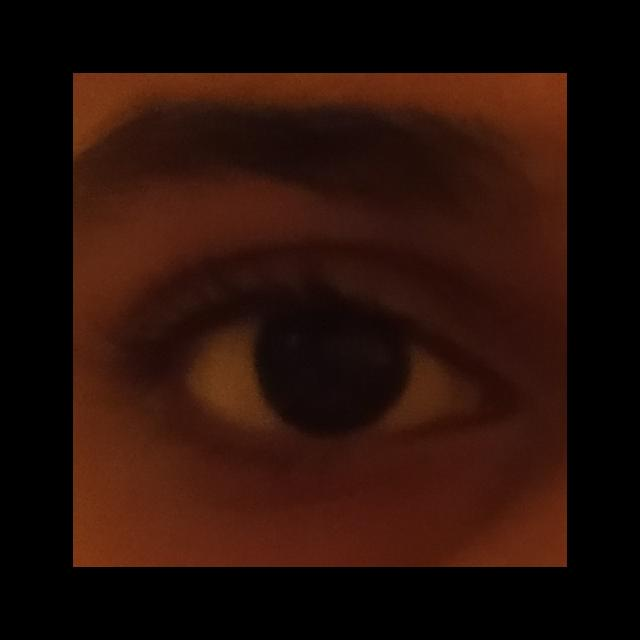eye: (174, 299, 482, 441)
iris: (254, 307, 414, 436)
